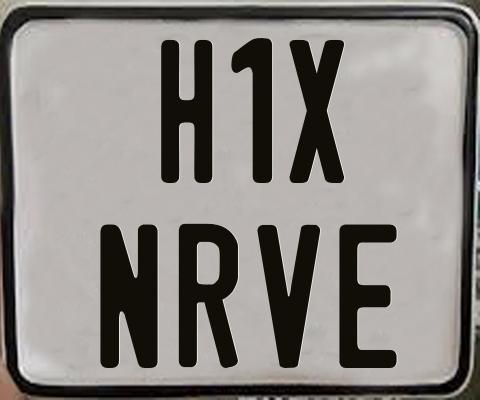1: (228, 37, 269, 184)
E: (337, 221, 397, 366)
H: (158, 39, 213, 184)
N: (100, 224, 158, 372)
R: (178, 221, 243, 371)
V: (256, 222, 322, 369)
X: (288, 37, 349, 180)
